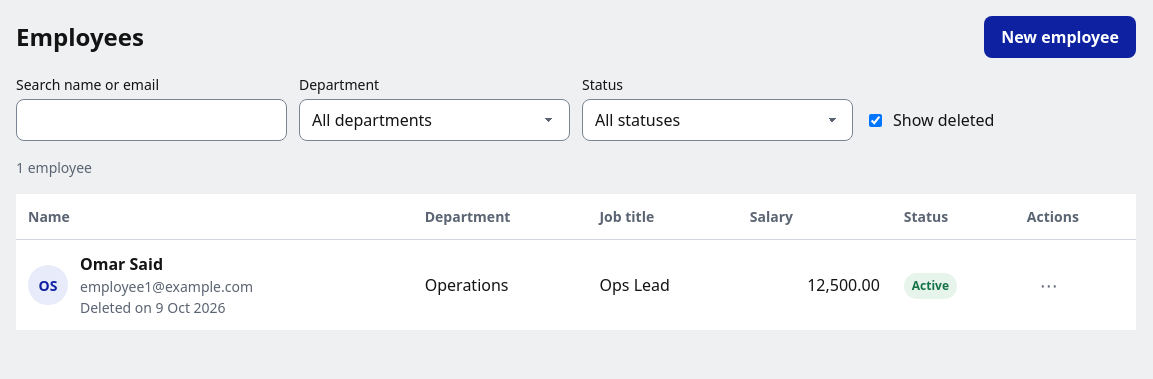
it: EmployeesPage - deleted view and restore › offers only Restore in the row menu of the deleted view
This screenshot has width=1153, height=379.
expect the table is shown: met, box [16,194,1136,330]
Click the button named "actions" at (1049, 285), box [1027,266,1071,304]
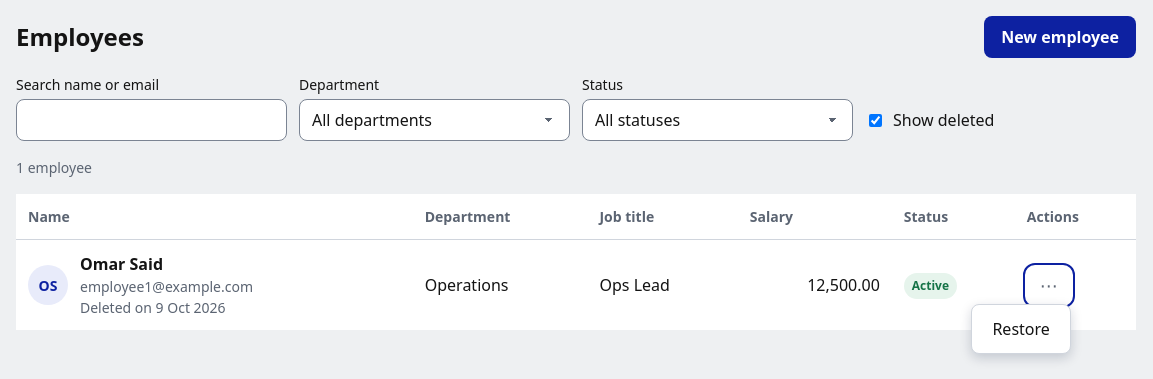
expect the menu items read "Restore", in this order: met, box [976,308,1066,348]
